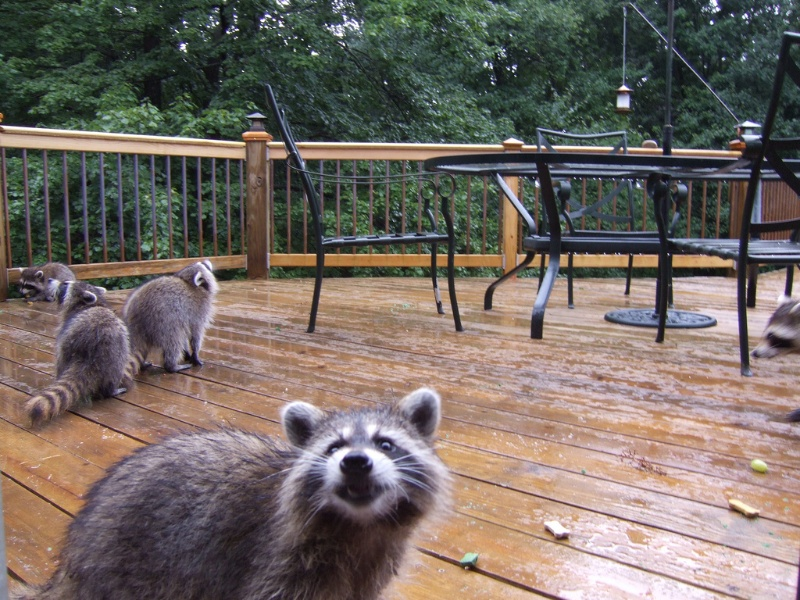raccoon: (25, 380, 457, 600), (121, 247, 231, 402), (18, 305, 135, 430), (747, 289, 800, 434), (15, 259, 79, 312)
